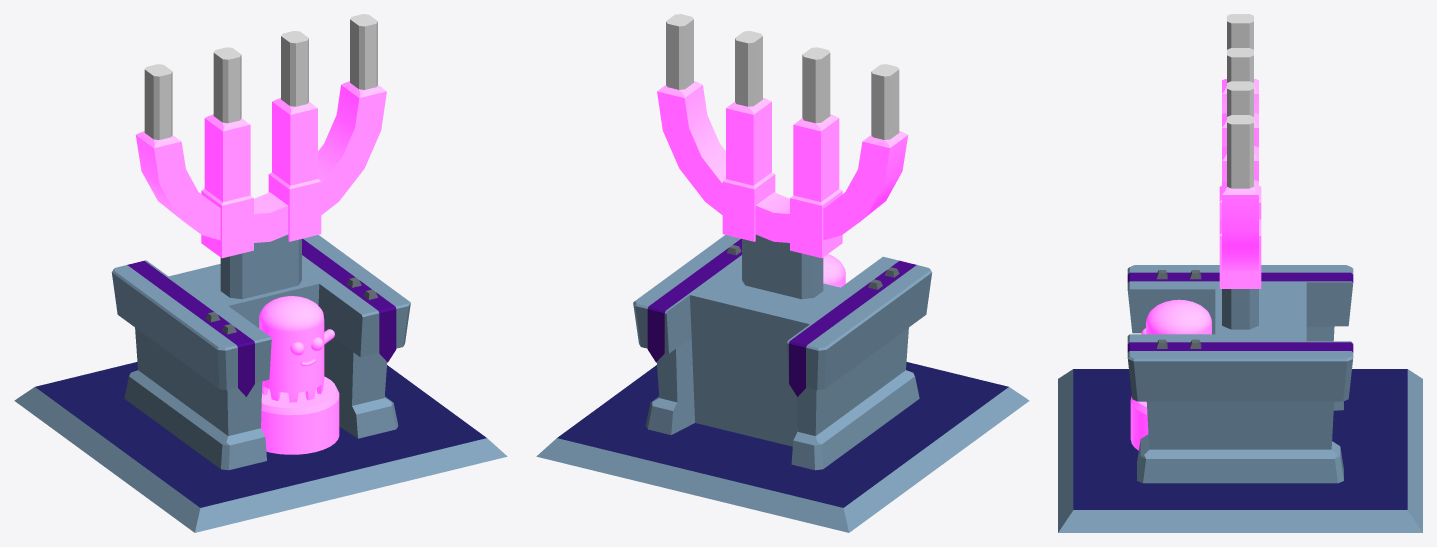
Rendered from 17_aaltar_8.fbx.
The picture shows the model from 3 angles, left to right: view 1: azimuth 30°, elevation 25°; view 2: azimuth 150°, elevation 25°; view 3: azimuth 270°, elevation 25°; orthographic projection.
Parts seen in each view (by area): view 1: foundation_8; view 2: foundation_8; view 3: foundation_8.
Part boxes in pixels (<box>): foundation_8: <box>14,14,507,532</box>; foundation_8: <box>536,14,1029,532</box>; foundation_8: <box>1058,14,1422,532</box>.
Bounding box in the file's own units: 78.73 × 92.13 × 78.73.
